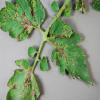Tomato Septoria leaf spot: (49, 20, 95, 90), (0, 0, 46, 45), (4, 58, 41, 100)
